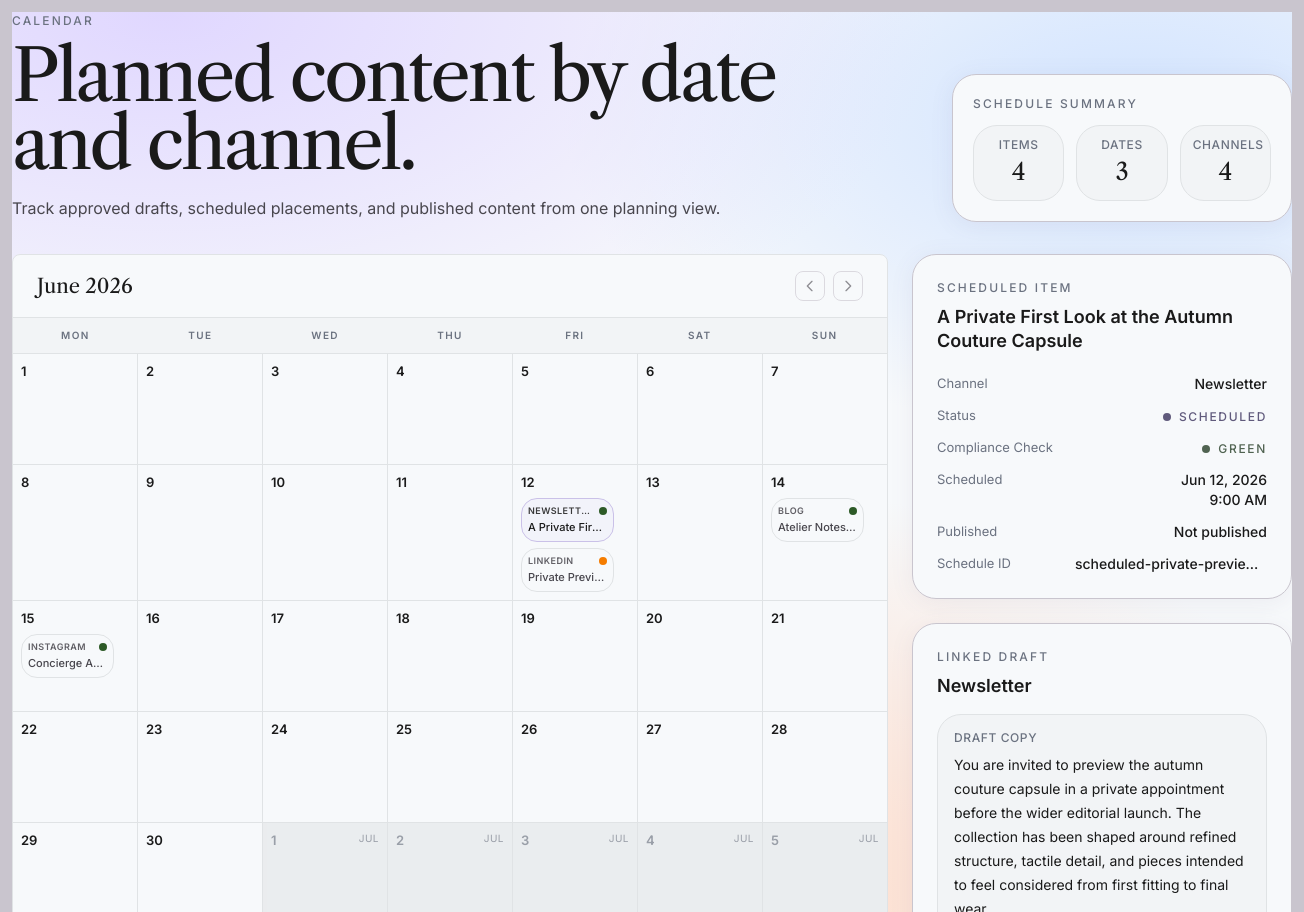
it: CalendarShell › shows the detail pane for the newly selected scheduled item
Expected: the heading "A Private First Look at the Autumn Couture Capsule" is shown, [937,305,1267,354]
Click the button "LinkedIn Private Preview: Autumn Couture Capsule".
click(568, 570)  # box [521,548,614,592]
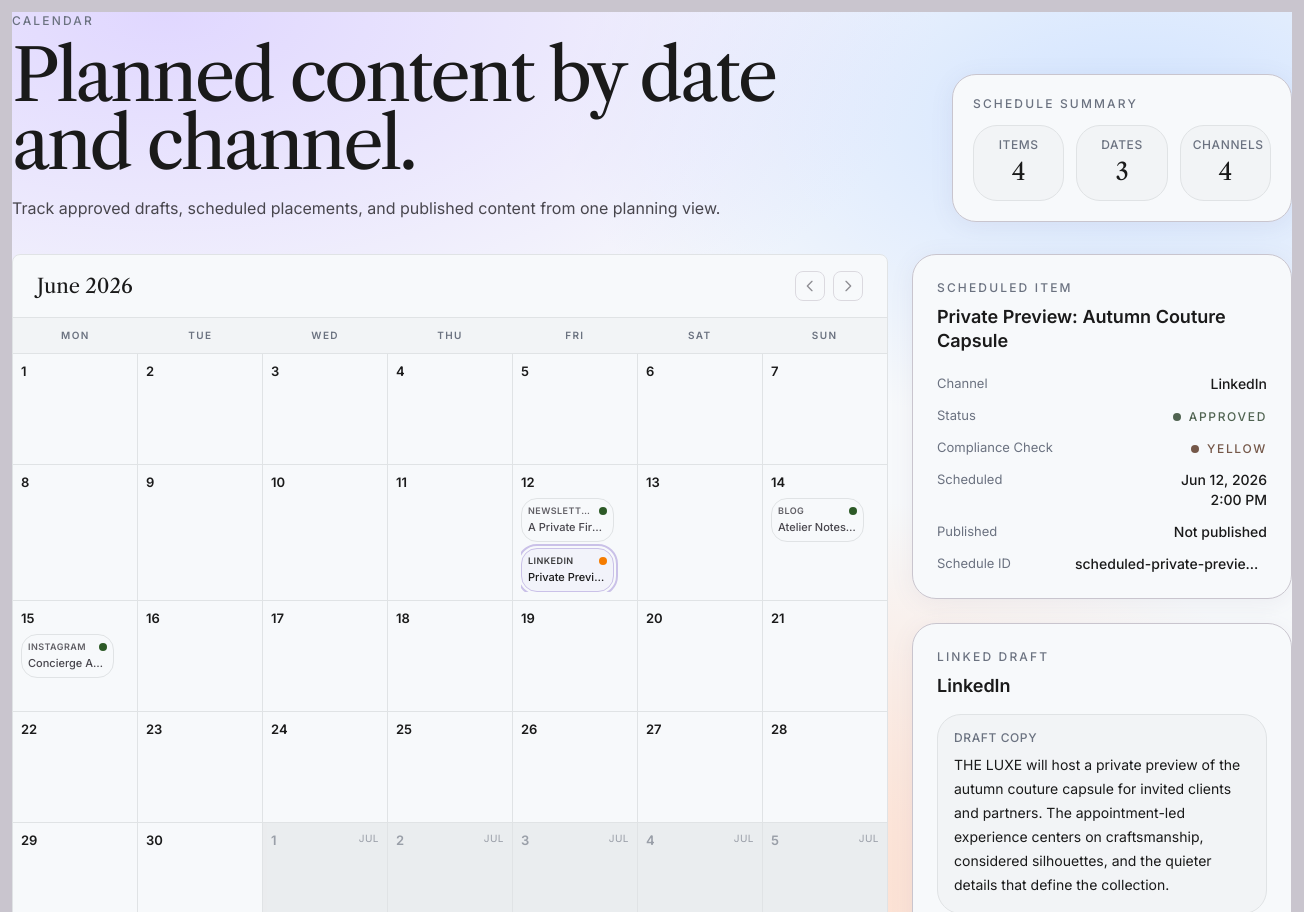
Expected: the heading "Private Preview: Autumn Couture Capsule" is shown, [937,305,1267,354]
